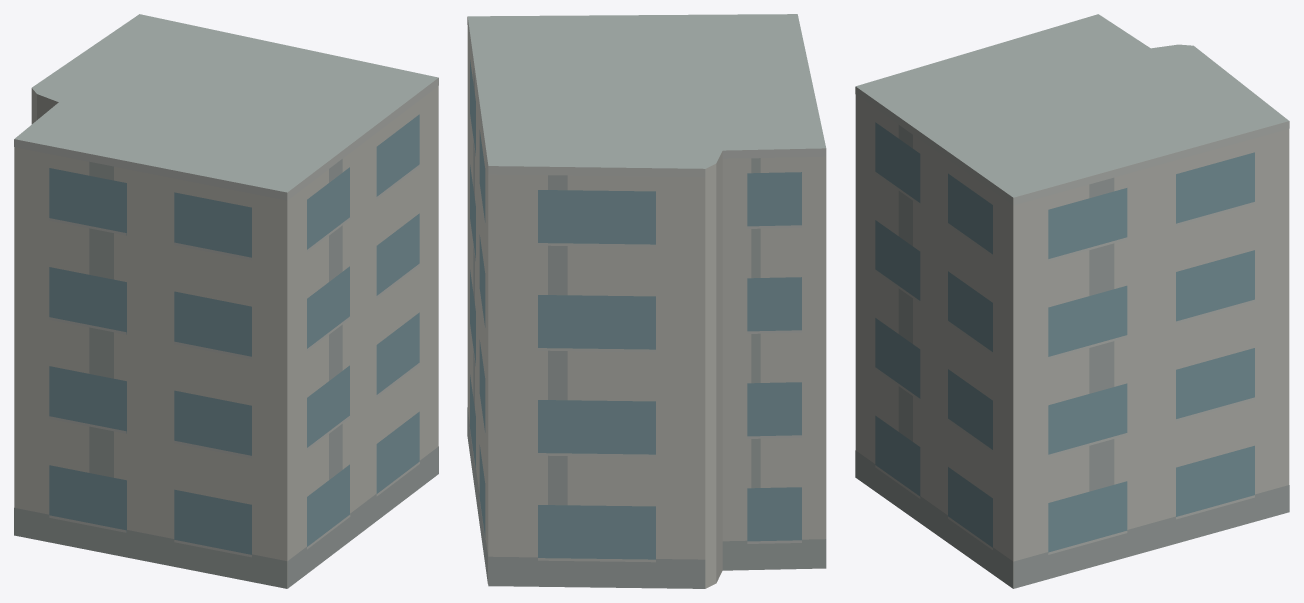
The model's file is residential-2b544614-9d14-4d37-9a93-70538100a7e0.glb.
3 views of the same model, side by side, from view 1: azimuth 30°, elevation 25°; view 2: azimuth 150°, elevation 25°; view 3: azimuth 270°, elevation 25° (orthographic). The views are drawn at different scales.
Visible parts, largest first — view 1: residential-2b544614-9d14-4d37-9a93-70538100a7e0.tmp; view 2: residential-2b544614-9d14-4d37-9a93-70538100a7e0.tmp; view 3: residential-2b544614-9d14-4d37-9a93-70538100a7e0.tmp.
Boxes of the visible parts, x1=… form: residential-2b544614-9d14-4d37-9a93-70538100a7e0.tmp: x1=14, y1=14, x2=438, y2=588; residential-2b544614-9d14-4d37-9a93-70538100a7e0.tmp: x1=467, y1=14, x2=826, y2=588; residential-2b544614-9d14-4d37-9a93-70538100a7e0.tmp: x1=855, y1=14, x2=1289, y2=588.
Bounding box in the file's own units: 12.3 × 12.2 × 12.28.
